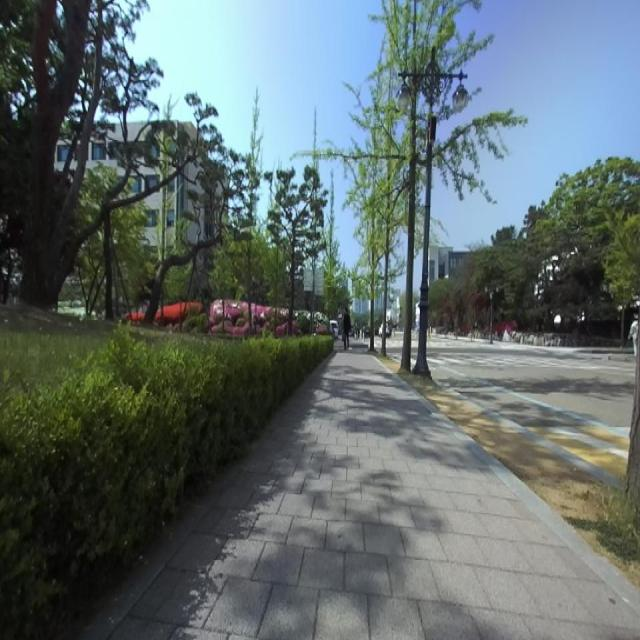sidewalk: (82, 342, 640, 639)
